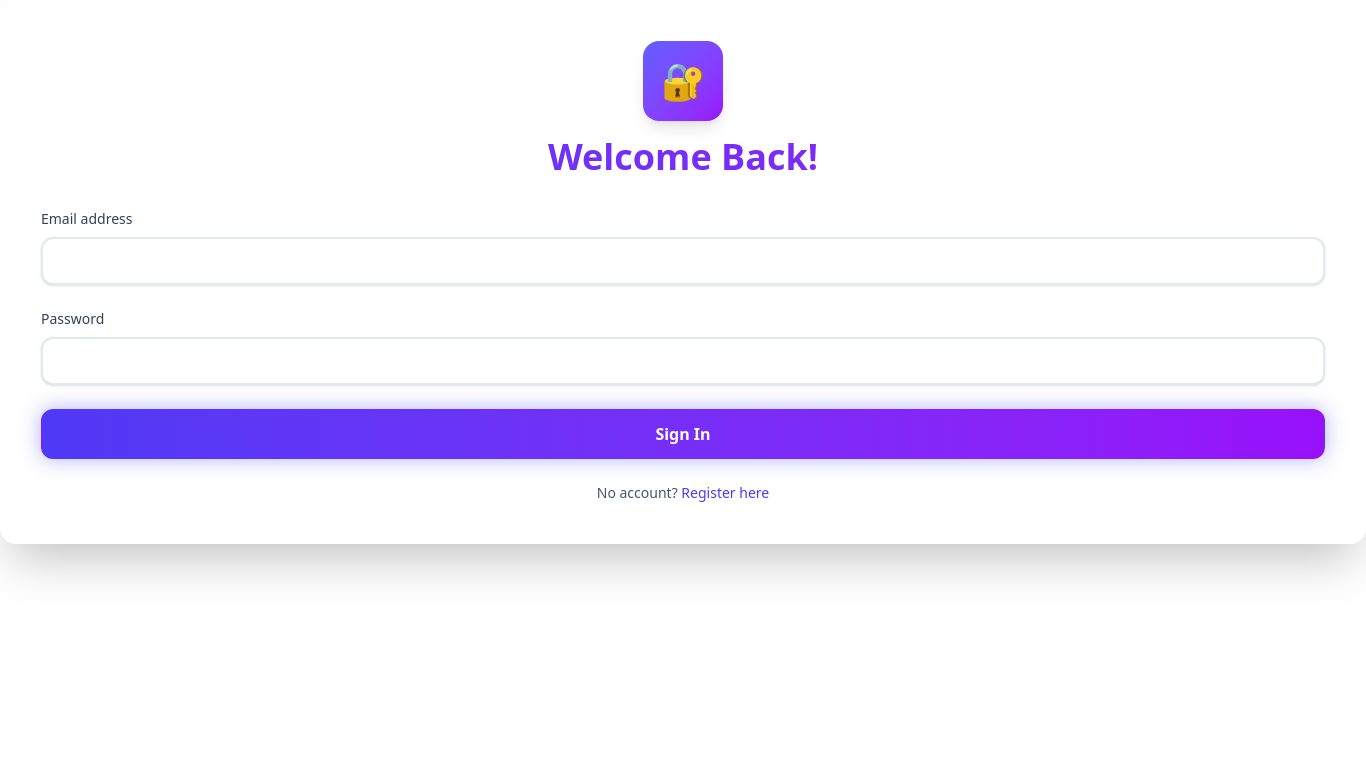
Test: AuthForm › login mode › should show validation errors for invalid input
The image size is (1366, 768).
Type "invalid-email" into the field labelled "Email address". click: point(683, 261)
box: [41, 237, 1325, 285]
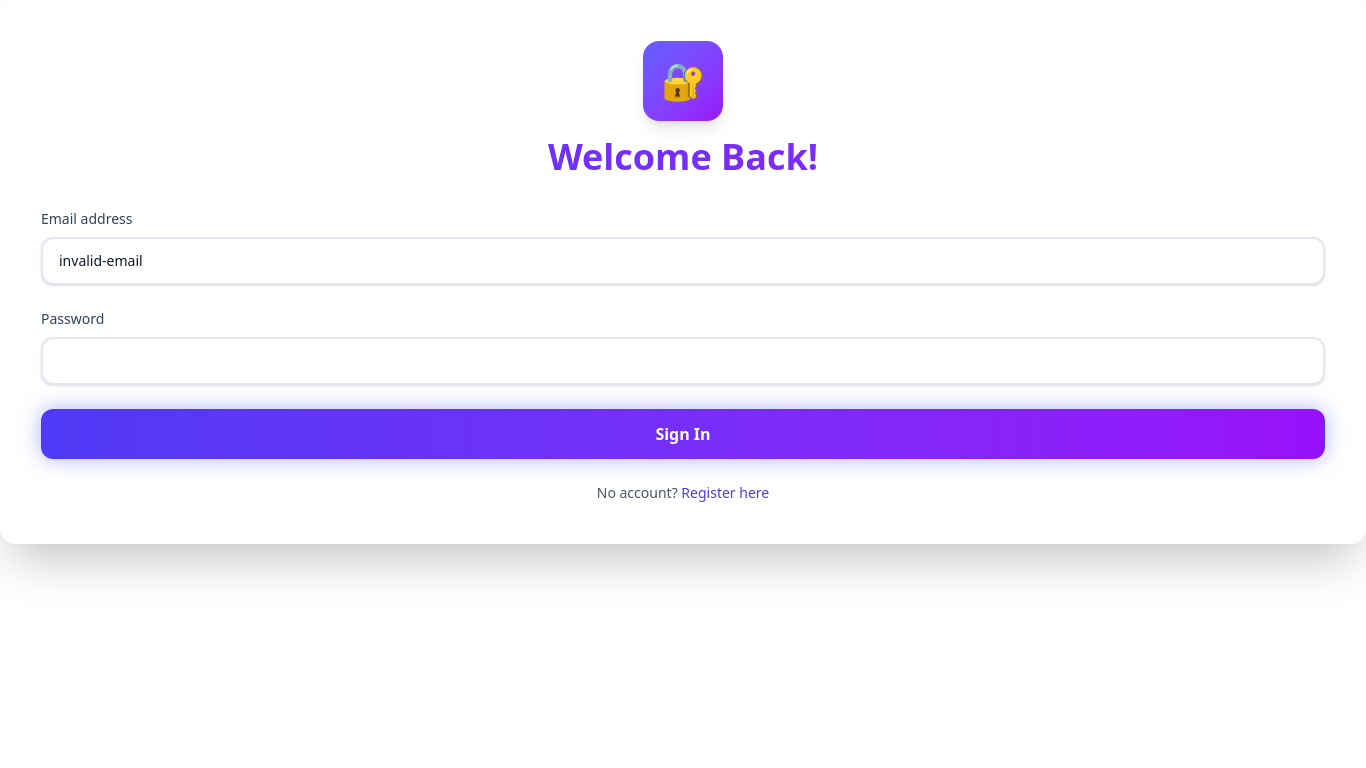
Submit the form, box [41, 209, 1325, 503]
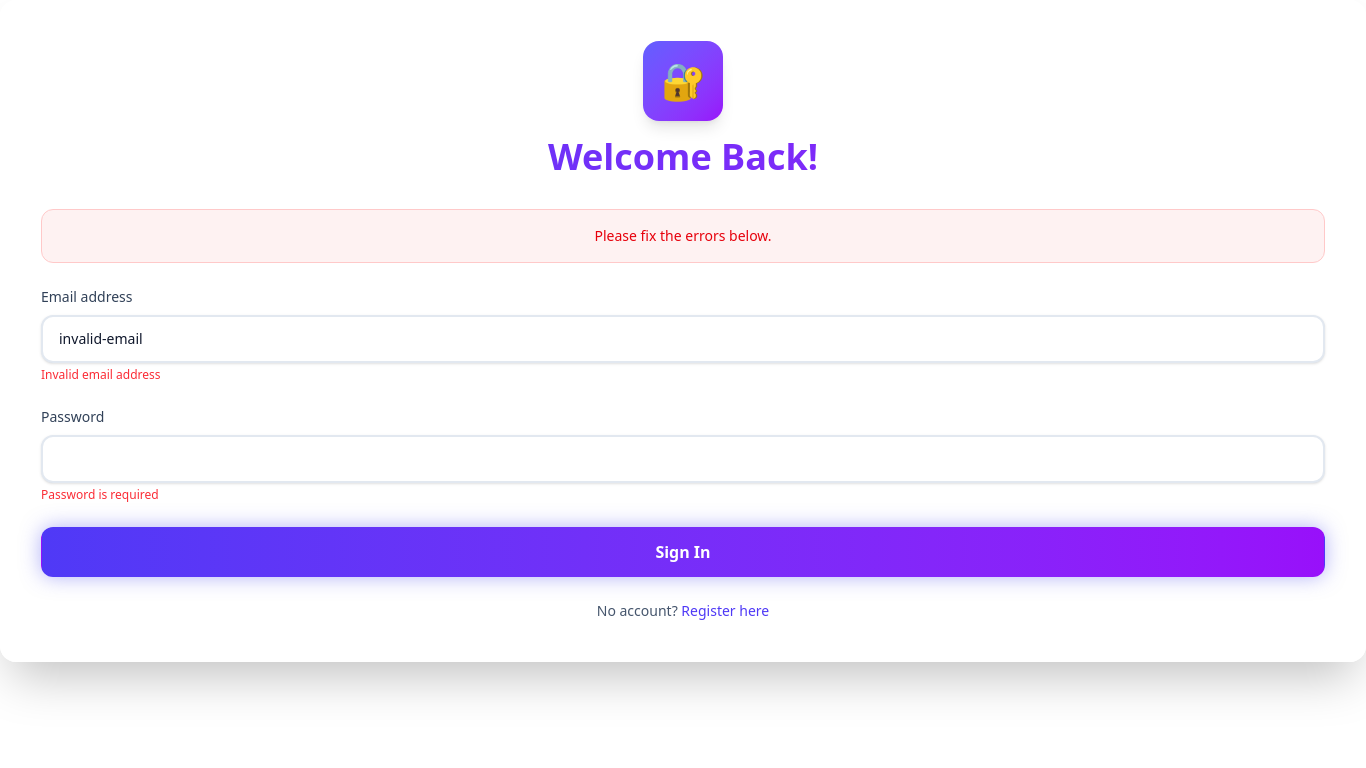
Expected: the text "Please fix the errors below" is shown, [594, 226, 772, 245]
